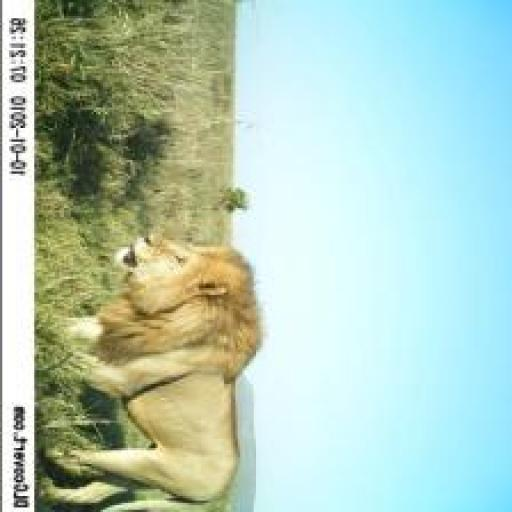lion: (32, 219, 283, 512)
